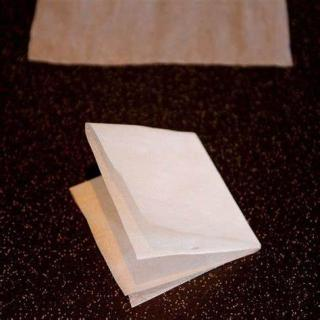Anorganik: (68, 112, 263, 308)
